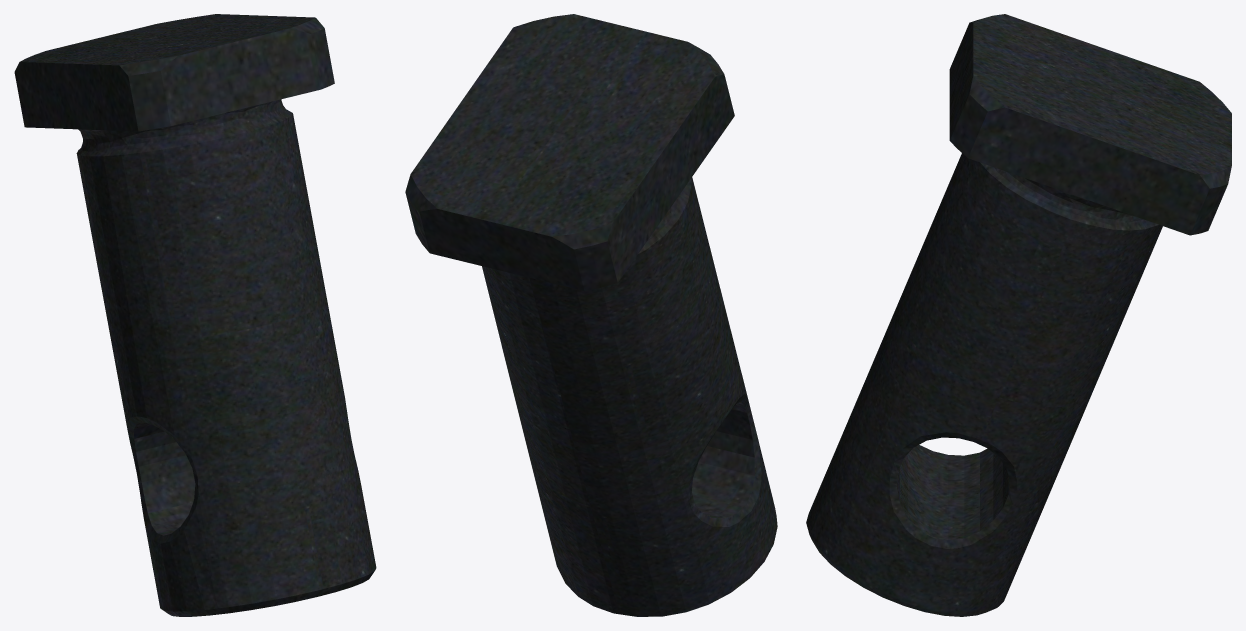
File: Bolt_Cam_Pin.dae
The picture shows the model from 3 angles, left to right: view 1: azimuth 30°, elevation 25°; view 2: azimuth 150°, elevation 25°; view 3: azimuth 270°, elevation 25°; orthographic projection. The views are drawn at different scales.
Parts seen in each view (by area): view 1: Bolt_Cam_Pin; view 2: Bolt_Cam_Pin; view 3: Bolt_Cam_Pin.
Boxes of the visible parts, <box> form: Bolt_Cam_Pin: <box>14,14,376,616</box>; Bolt_Cam_Pin: <box>405,14,777,616</box>; Bolt_Cam_Pin: <box>806,14,1231,616</box>.
Bounding box in the file's own units: 0.00792 × 0.0153 × 0.0216.
1 material, 1 textured.
